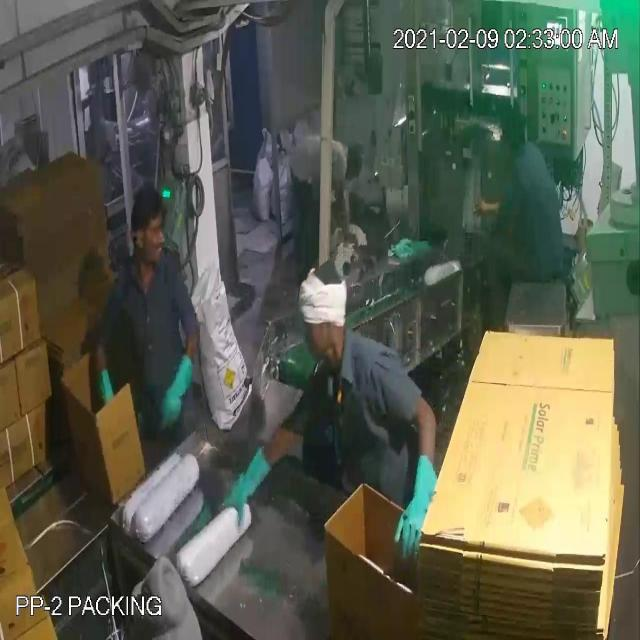Gloves: (59, 98, 412, 502)
